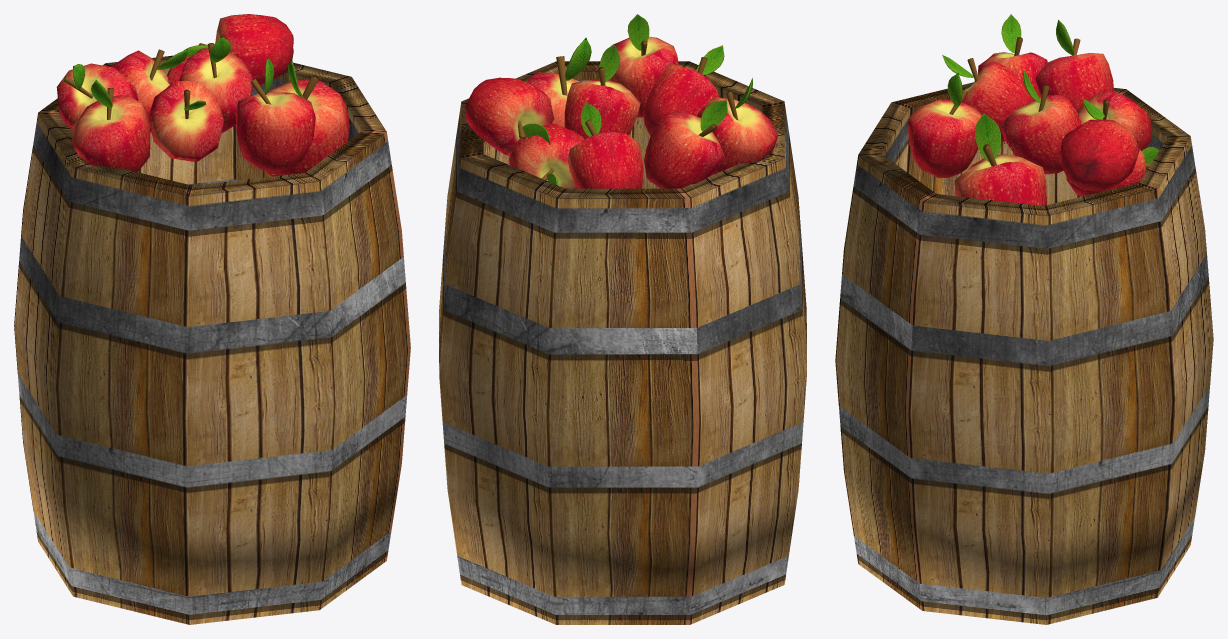
Rendered from appleBarrel.fbx.
The picture shows the model from 3 angles, left to right: view 1: azimuth 30°, elevation 25°; view 2: azimuth 150°, elevation 25°; view 3: azimuth 270°, elevation 25°; orthographic projection. The views are drawn at different scales.
Visible parts, largest first — view 1: polySurface53; view 2: polySurface53; view 3: polySurface53.
Part boxes in pixels (bbox=[...]): polySurface53: bbox=[14, 14, 410, 624]; polySurface53: bbox=[439, 14, 806, 624]; polySurface53: bbox=[835, 14, 1213, 624].
Size of the model in its own units: 2.1 by 3.02 by 2.1.
Materials: 2 (2 with a texture image).
